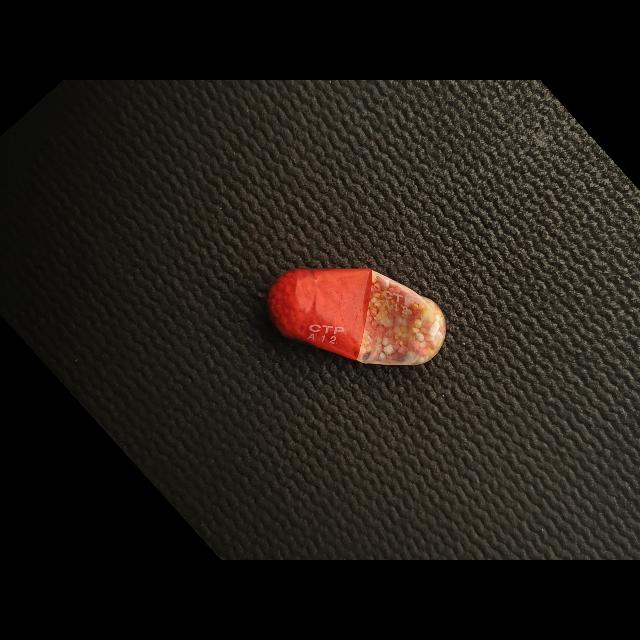Defective Capsule: (267, 269, 446, 365)
